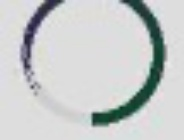ProgressBar: (1, 1, 183, 139)
